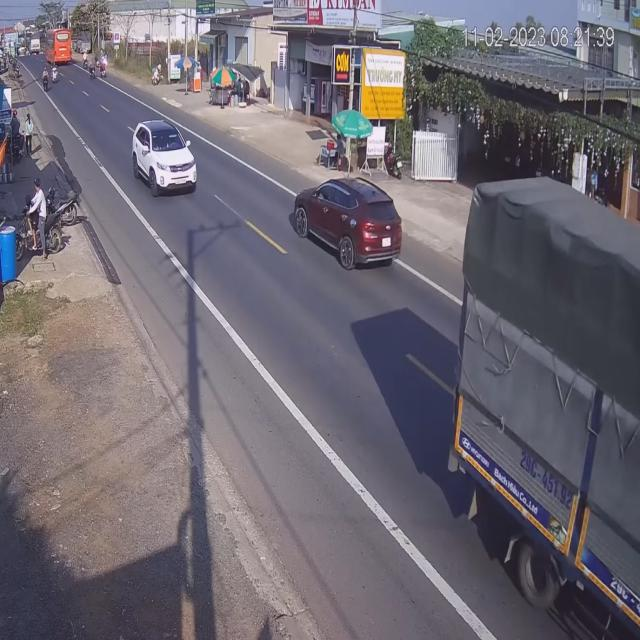bus: (44, 27, 73, 66)
car: (293, 174, 403, 269), (131, 117, 197, 197)
truck: (454, 173, 640, 640)
